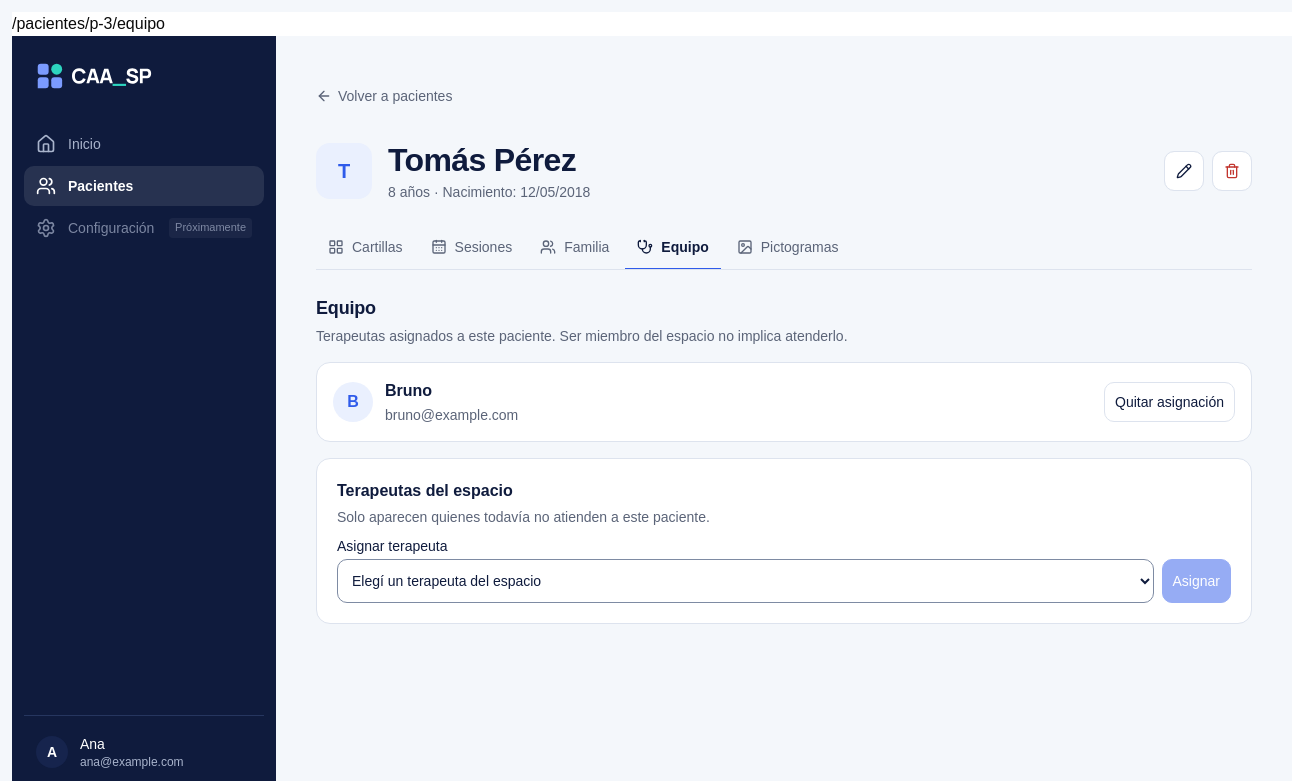
PatientTherapistsPage › assigns a therapist and refreshes the team and the patient
Select "Carla (carla@example.com)" in the dropdown labelled "Asignar terapeuta" at (745, 581), box left=337, top=559, right=1154, bottom=603
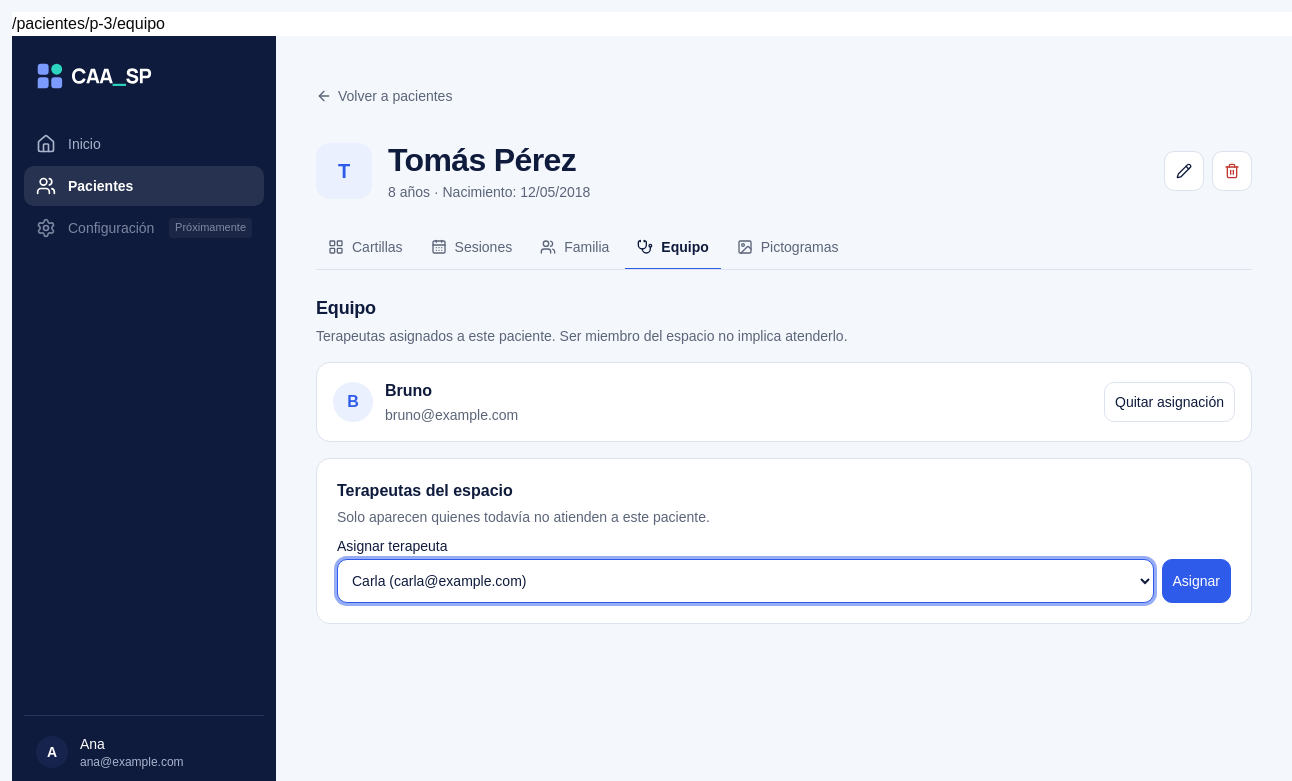
Click the button "Asignar" at (1196, 581), box left=1162, top=559, right=1231, bottom=603
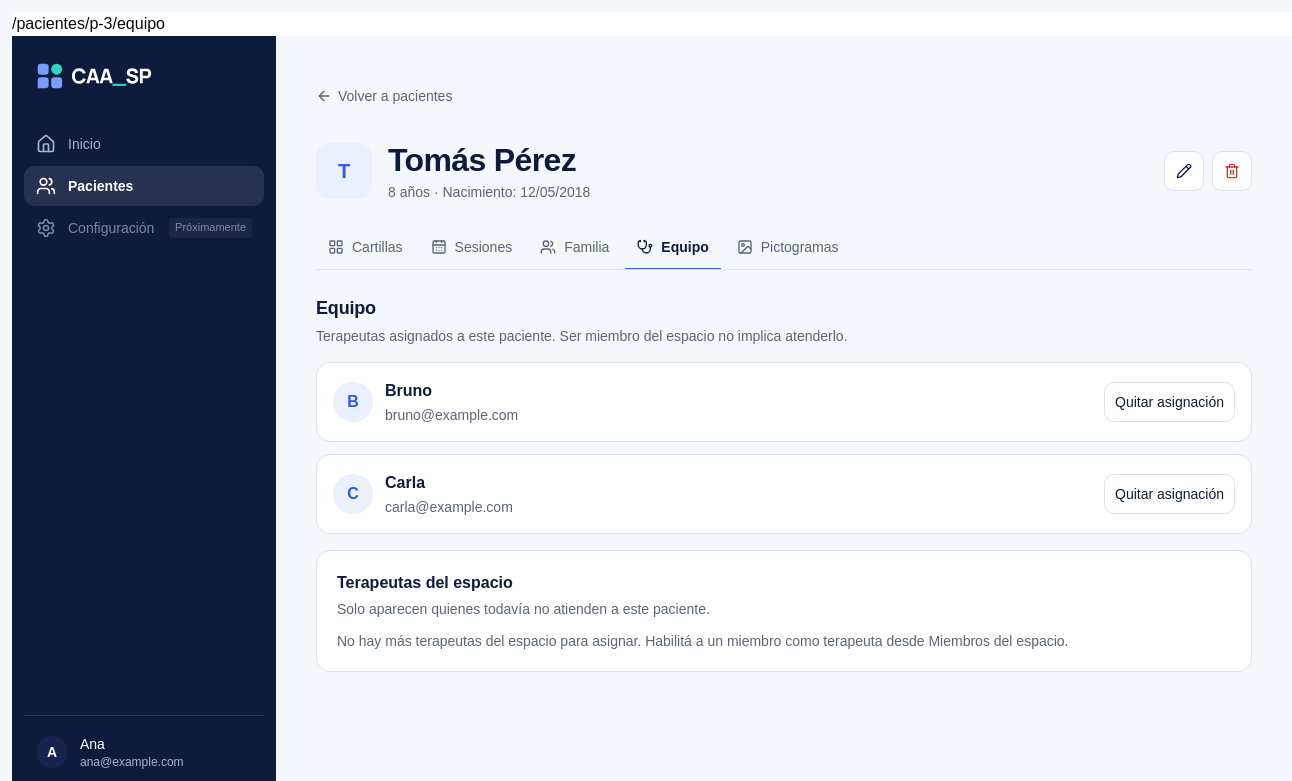
Expected: the text "Carla" is shown, left=385, top=474, right=425, bottom=491
